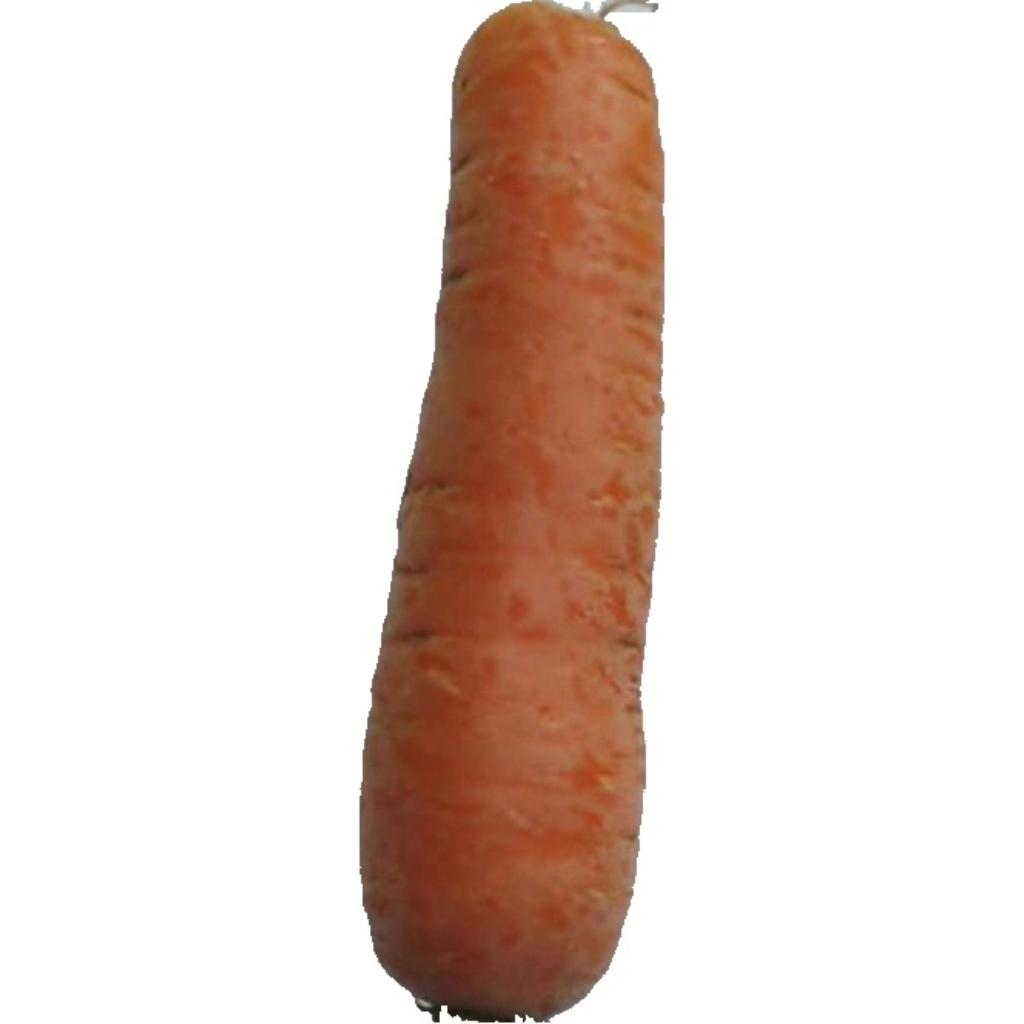carrot: (362, 2, 662, 1020)
